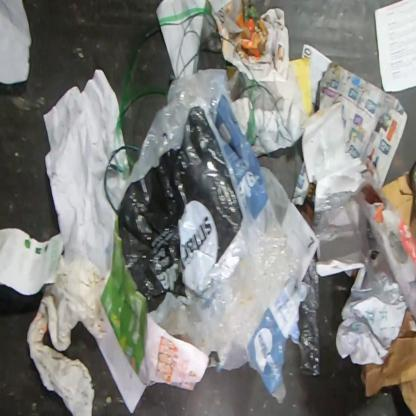cardboard: (360, 310, 415, 415), (381, 174, 416, 246)
soft_plastic: (117, 67, 321, 405), (316, 249, 408, 365), (311, 191, 351, 240)
